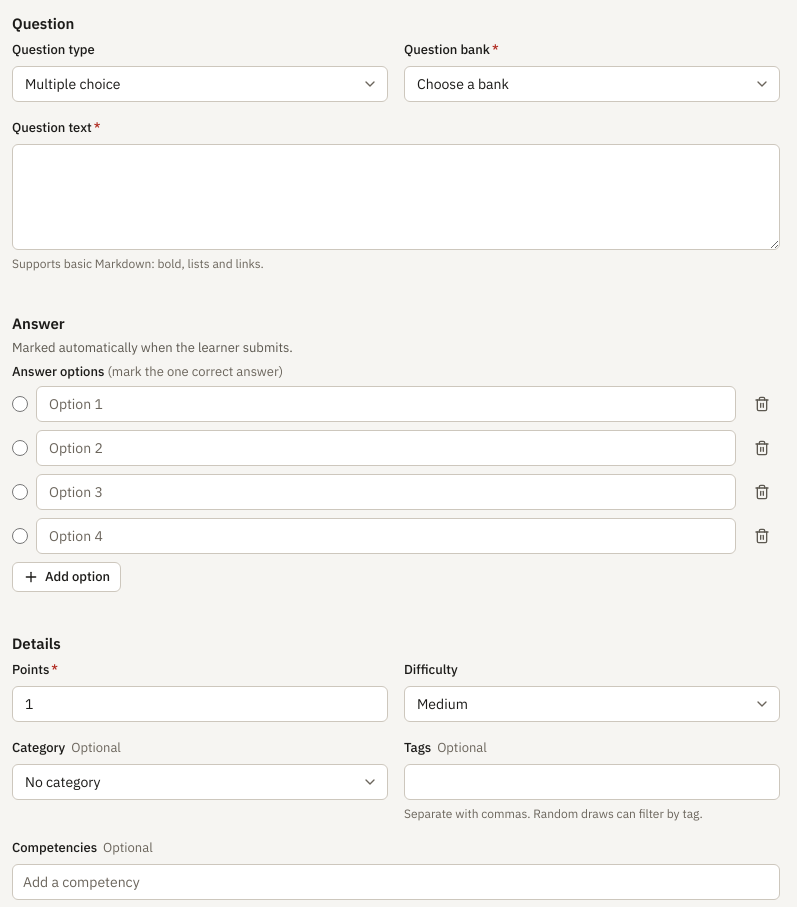
Test: creating a question › shows the long_answer editor when that type is chosen
Select "Long answer" in the dropdown labelled "Question type" at (200, 84), box [12,66,388,102]
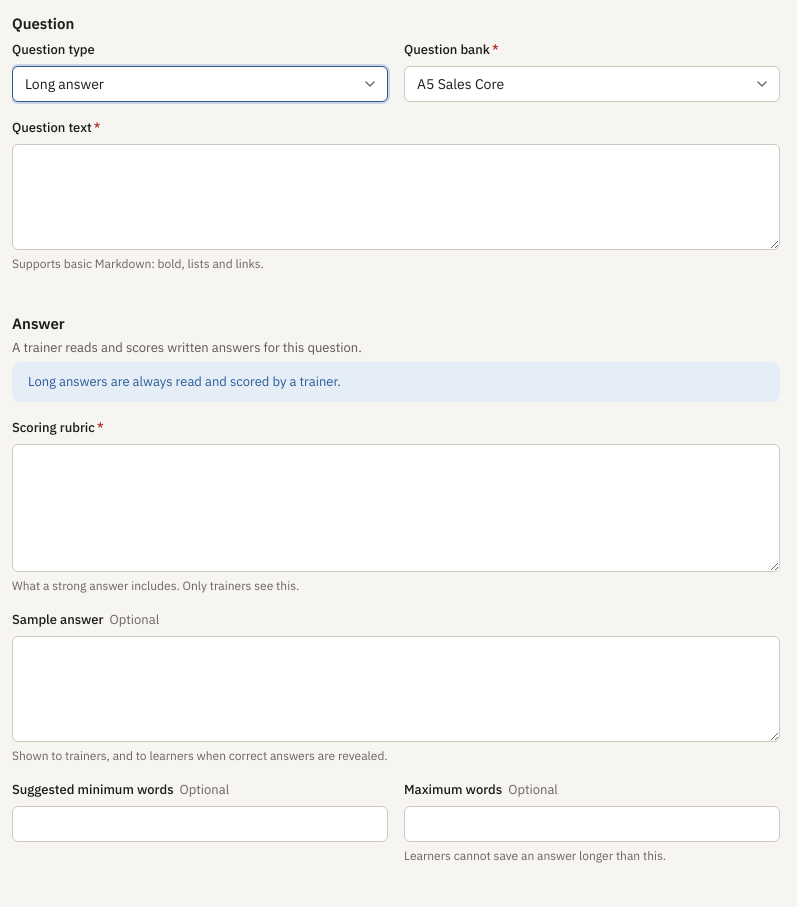
Result: the text "Scoring rubric*" is shown at [12,419,104,436]
